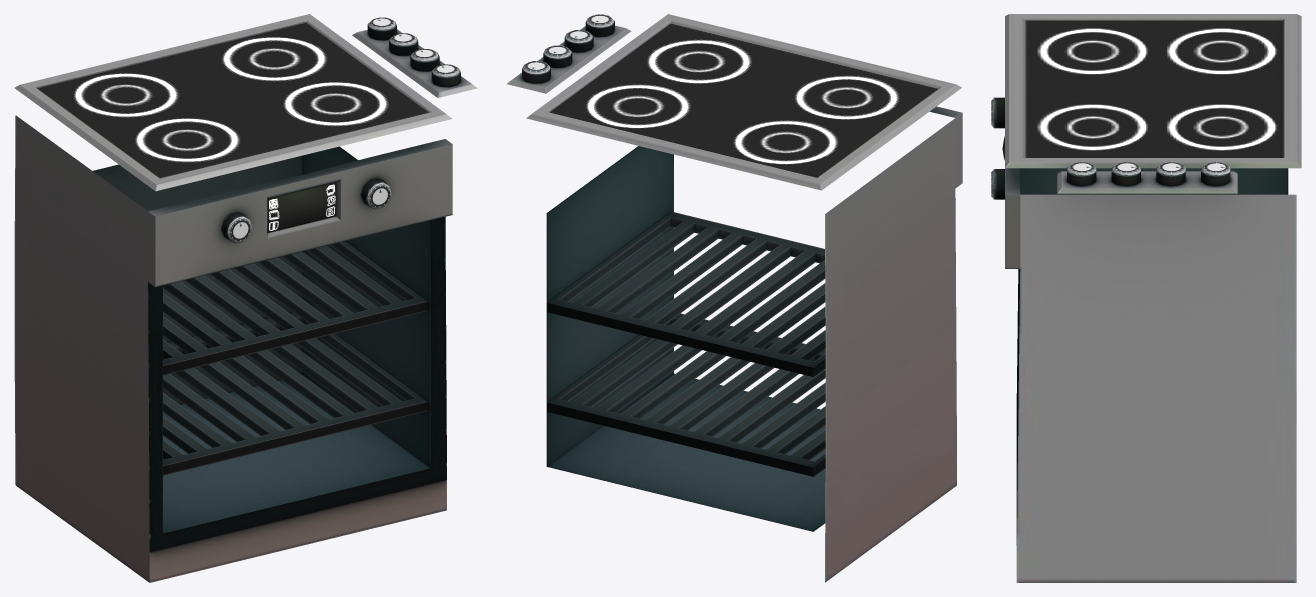
File: oven.glb
3 renders of one model, left to right at view 1: azimuth 30°, elevation 25°; view 2: azimuth 150°, elevation 25°; view 3: azimuth 270°, elevation 25°, orthographic. The views are drawn at different scales.
Visible parts, largest first — view 1: Oven; view 2: Oven; view 3: Oven.
Boxes of the visible parts, x1,y1,x2,y2 form: Oven: (14,14,477,582); Oven: (507,14,962,582); Oven: (991,14,1301,582).
Bounding box in the file's own units: 0.9057 × 1.02 × 0.6649.
Materials: 1 (1 with a texture image).
